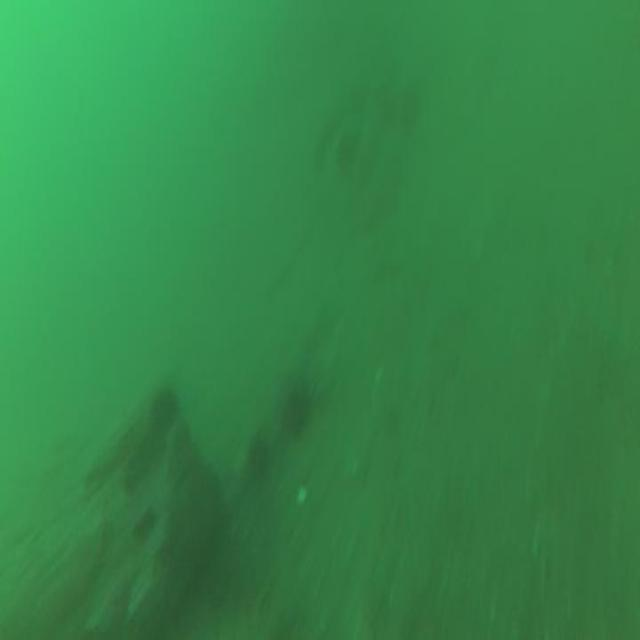echinus: (281, 382, 308, 448), (244, 425, 273, 484), (149, 386, 177, 438)
